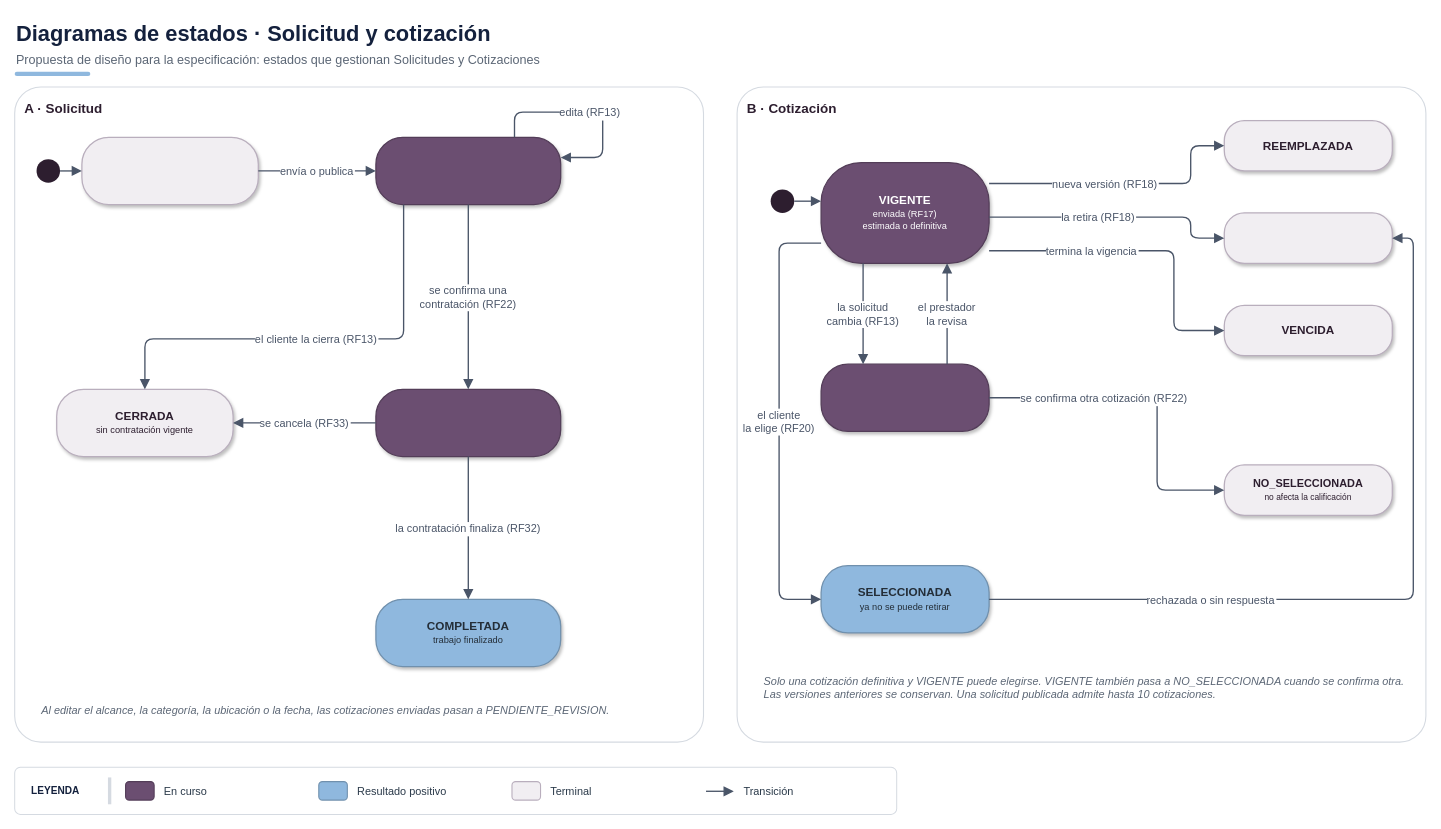
Some shapes in this 1441 by 829 pixel diagram are drawn without their labels. The centre of each missing label's shape, as x and y in pixels:
"ABIERTA dirigida o publicada" belongs at (x=469, y=172).
"BORRADOR la crea el cliente (RF12)" belongs at (x=171, y=172).
"CONTRATADA ya no recibe cotizaciones" belongs at (x=469, y=424).
"PENDIENTE_REVISION no se puede aceptar" belongs at (x=905, y=398).
"RETIRADA" belongs at (x=1309, y=239).
